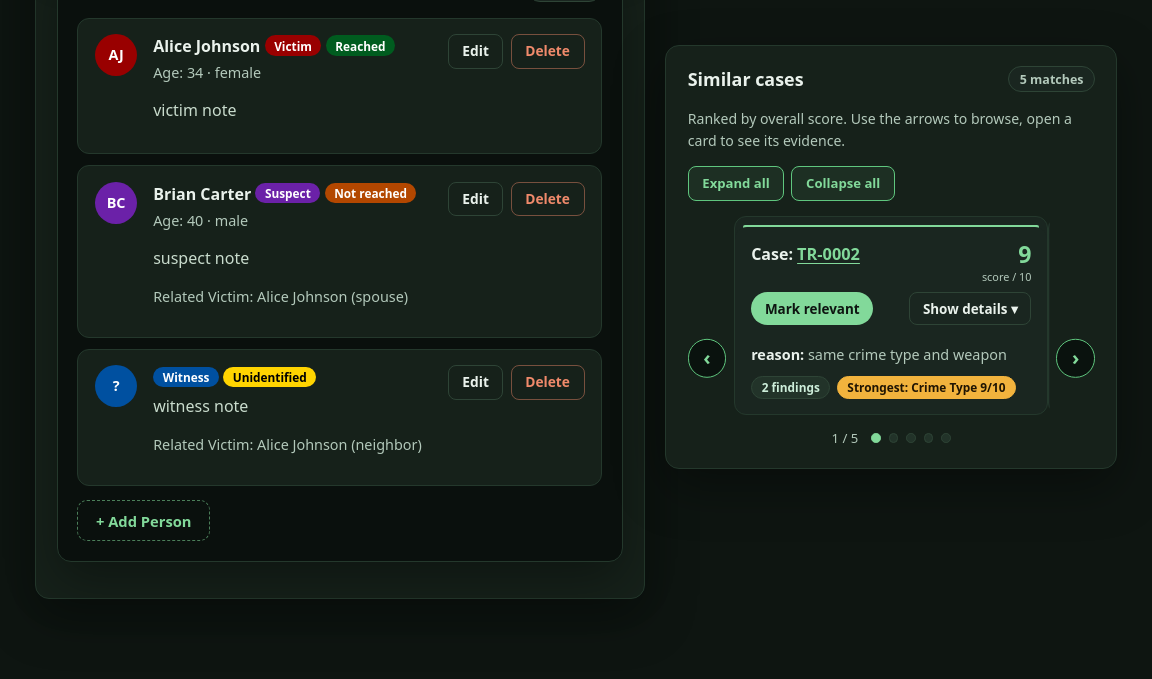
Scenario: Case detail People section › (b) draft person does no POST without Save; Cancel removes the row
(page scrolled)
Click the button "+ Add Person". click: (144, 521)
box: [77,500,210,542]
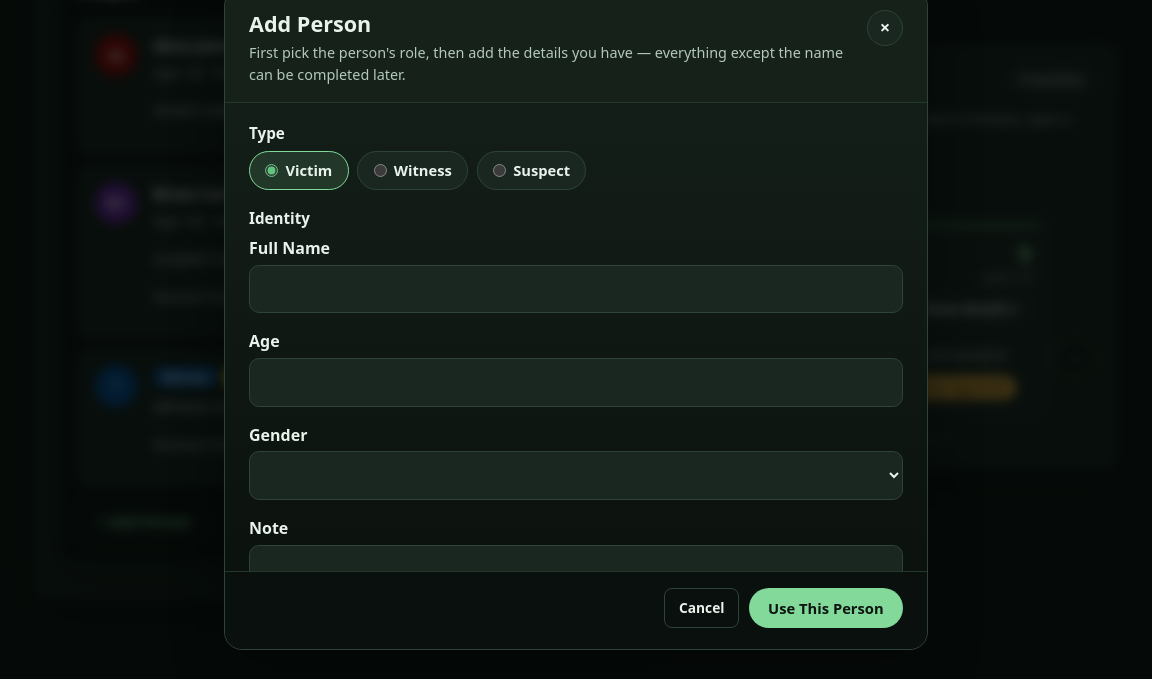
Type "New Person" into the field labelled "Full Name". click: (576, 289)
box: [249,265,903,314]
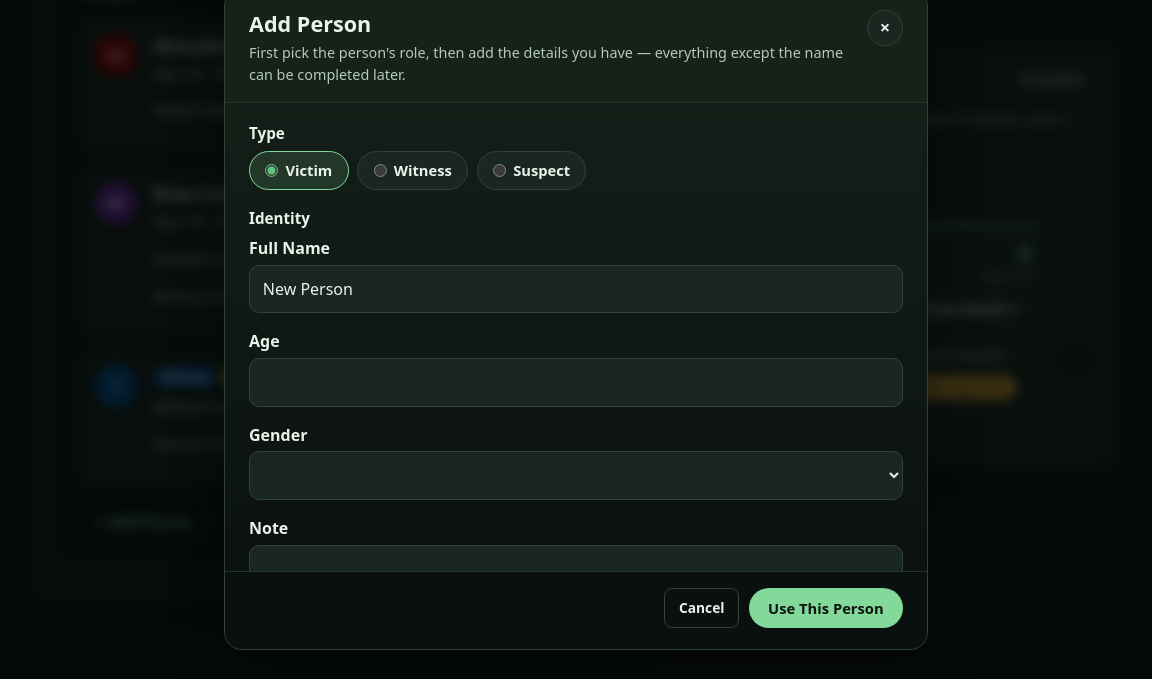
Click the button "Use This Person". click: (826, 608)
box: [749,588,903,628]
(page scrolled)
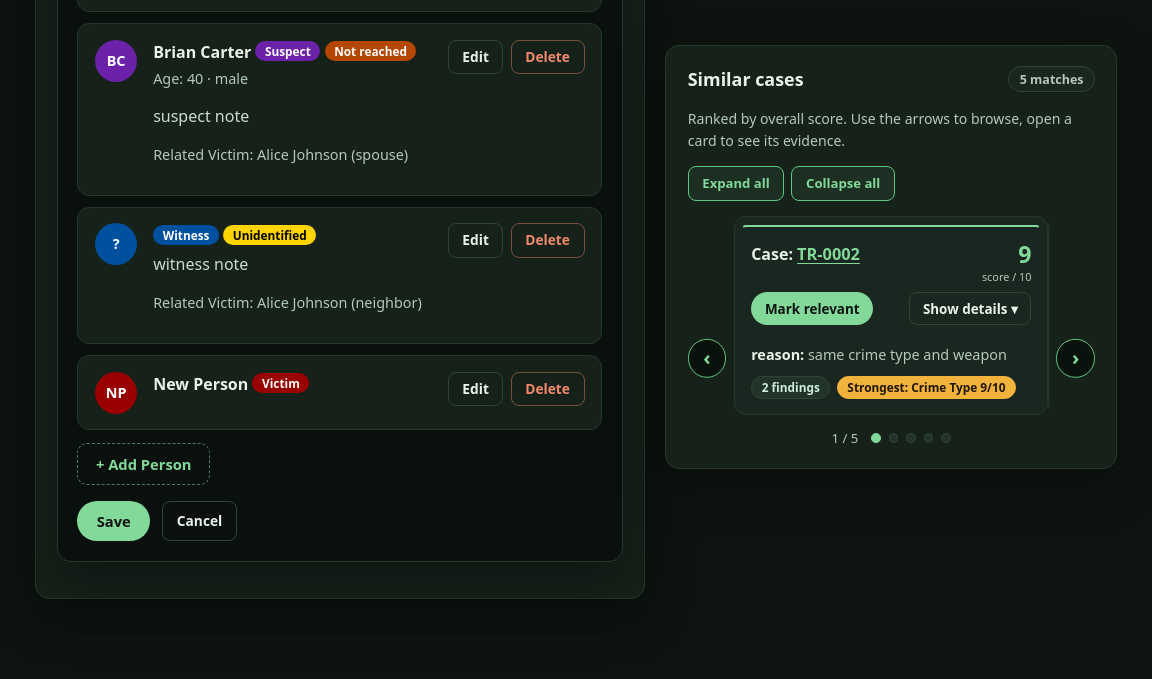
Check: the text "New Person" is shown, box [153,373,248,395]
Click the button "Cancel". click: (200, 521)
box: [162,501,237,541]
(page scrolled)
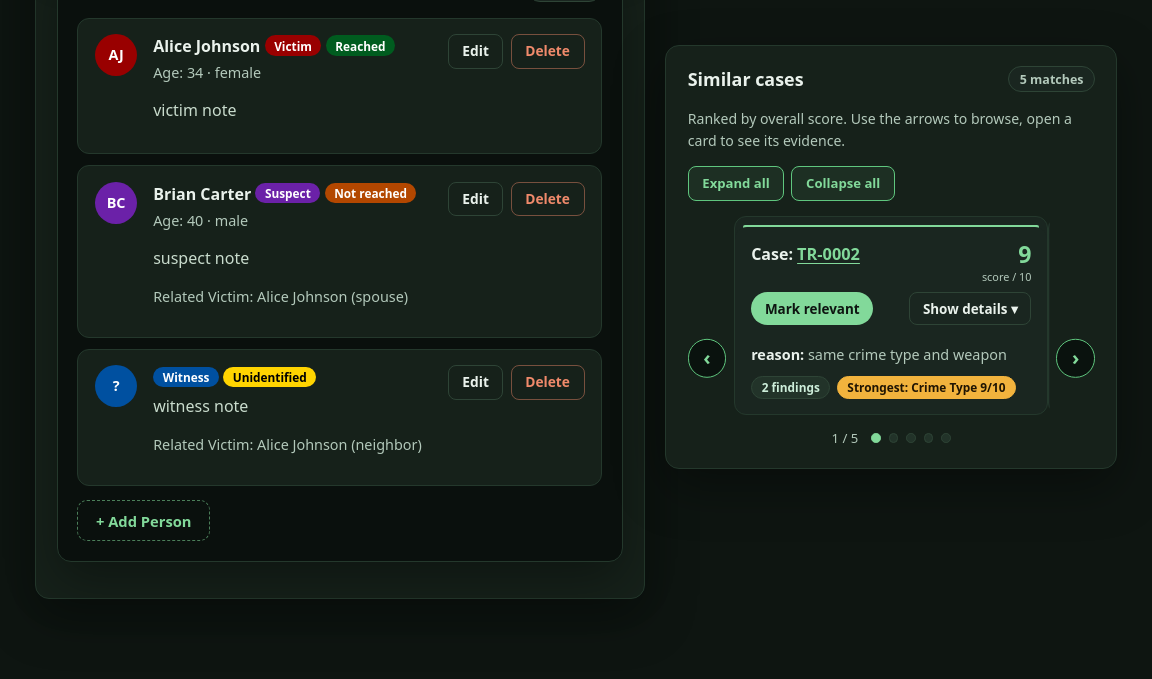
Check: the text "Alice Johnson" is shown, box [153,35,260,57]
Check: the text "New Person" is gone
